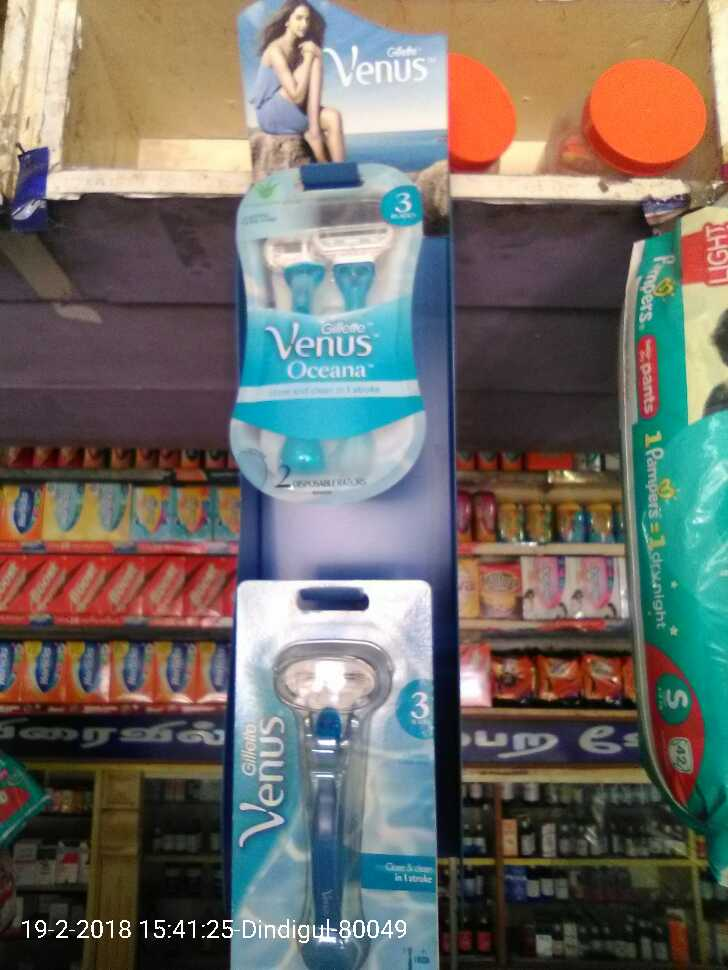venus: (238, 189, 428, 509), (250, 610, 401, 970)
